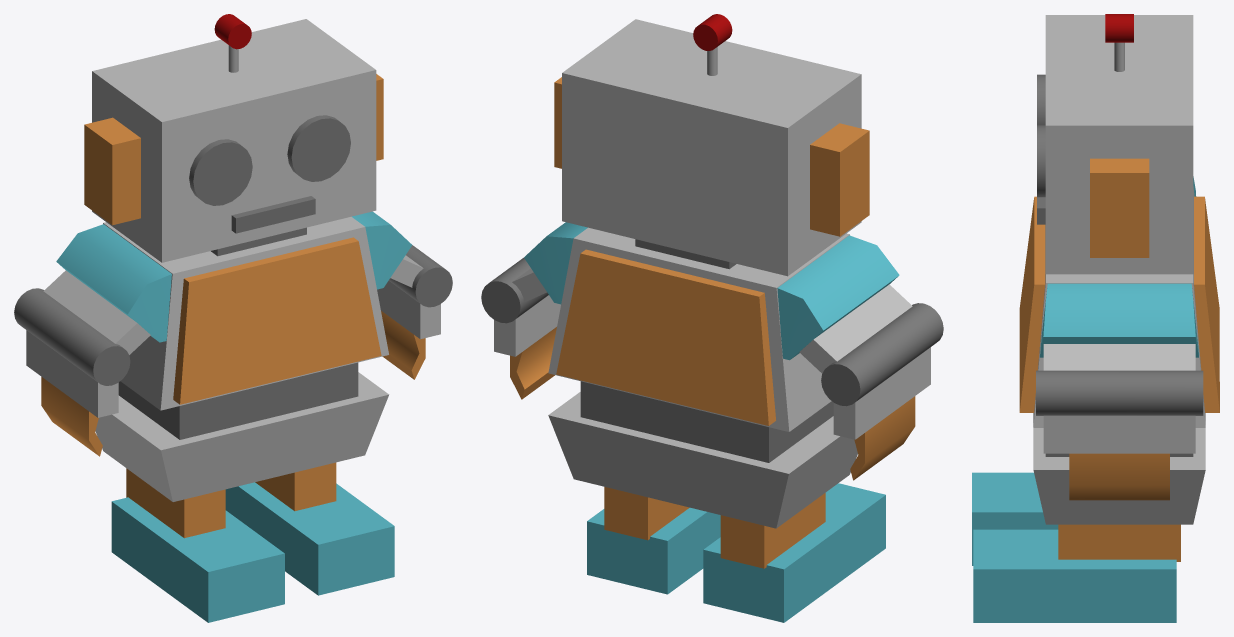
Rendered from robot-towi.fbx.
3 renders of one model, left to right at view 1: azimuth 30°, elevation 25°; view 2: azimuth 150°, elevation 25°; view 3: azimuth 270°, elevation 25°, orthographic. The views are drawn at different scales.
Visible parts, largest first — view 1: polySurface19; view 2: polySurface19; view 3: polySurface19.
Part boxes in pixels (x1=…): polySurface19: x1=14, y1=14, x2=452, y2=622; polySurface19: x1=481, y1=14, x2=943, y2=622; polySurface19: x1=972, y1=14, x2=1219, y2=622.
Bounding box in the file's own units: 7.41 × 10.42 × 4.18.
